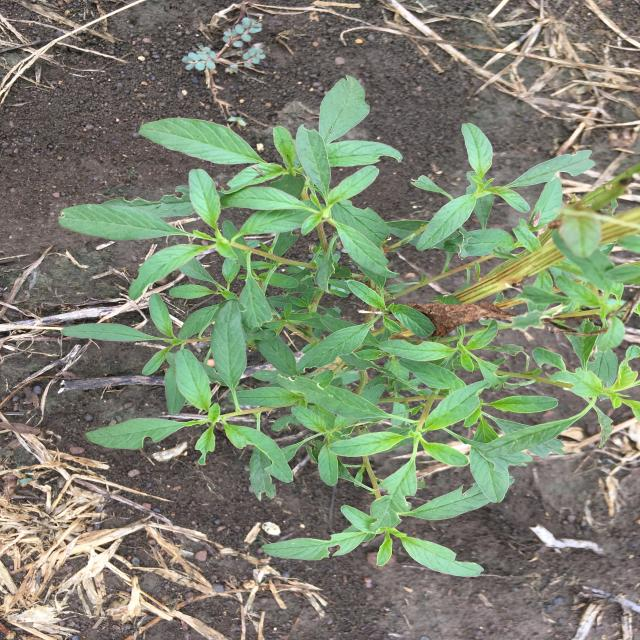SpottedSpurge: (181, 17, 267, 73)
Waterhemp: (59, 75, 640, 576)
